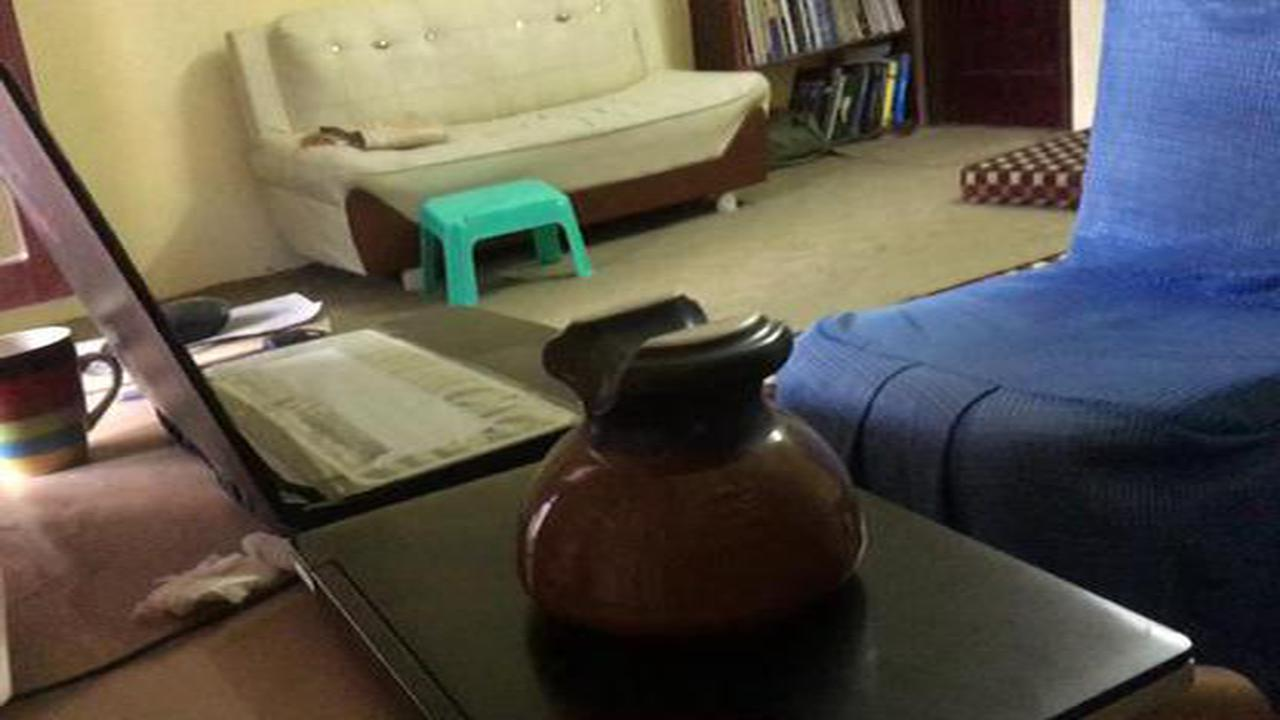insulator_pin: (496, 287, 902, 660)
